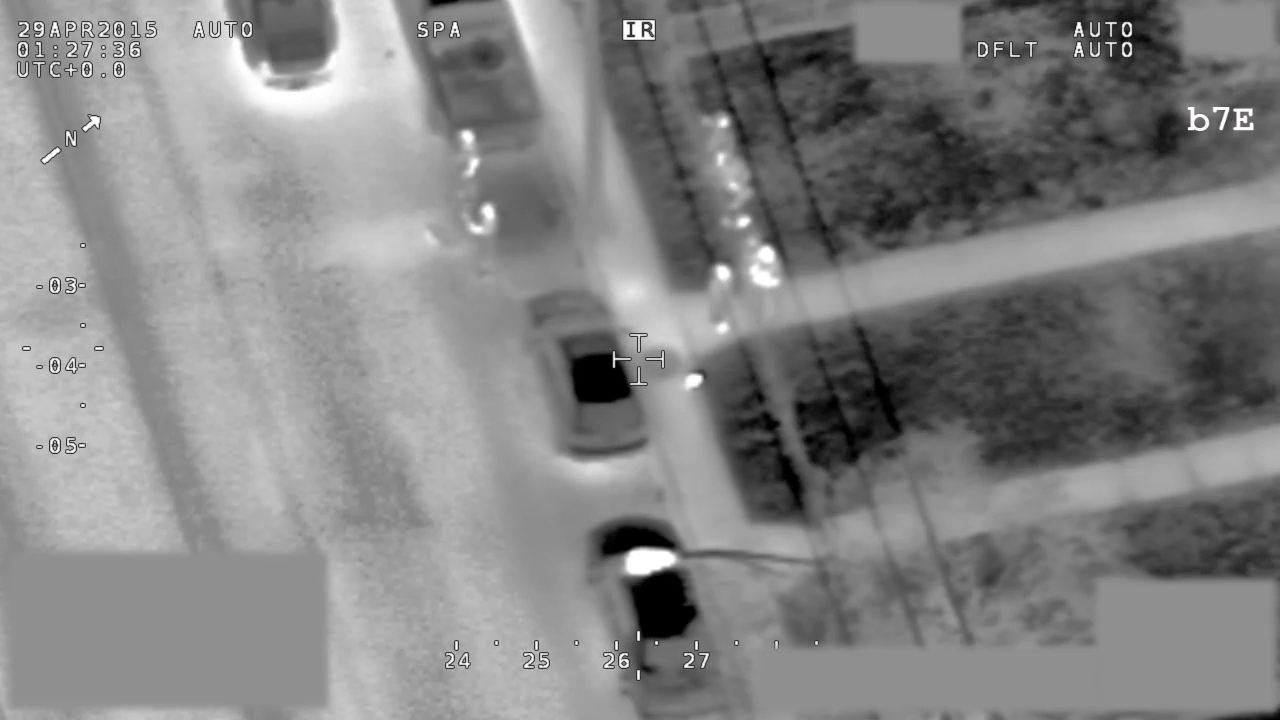vehicle: (576, 515, 742, 720), (392, 1, 554, 159), (515, 289, 656, 466), (215, 1, 354, 98)
